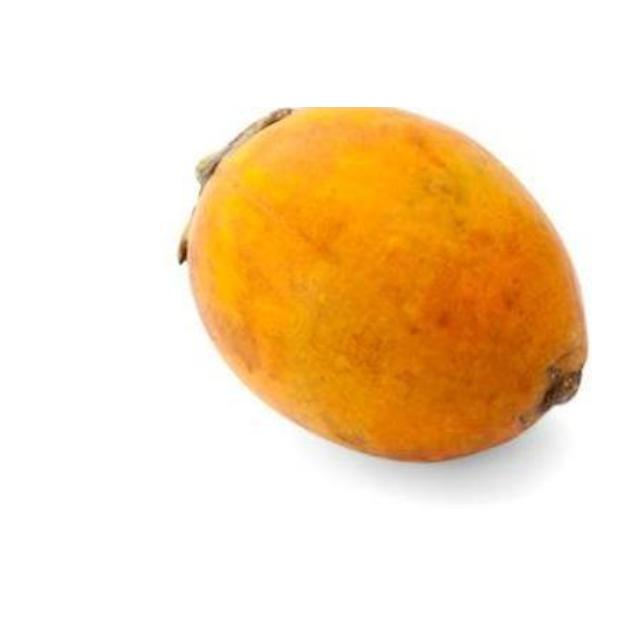good: (179, 107, 590, 465)
